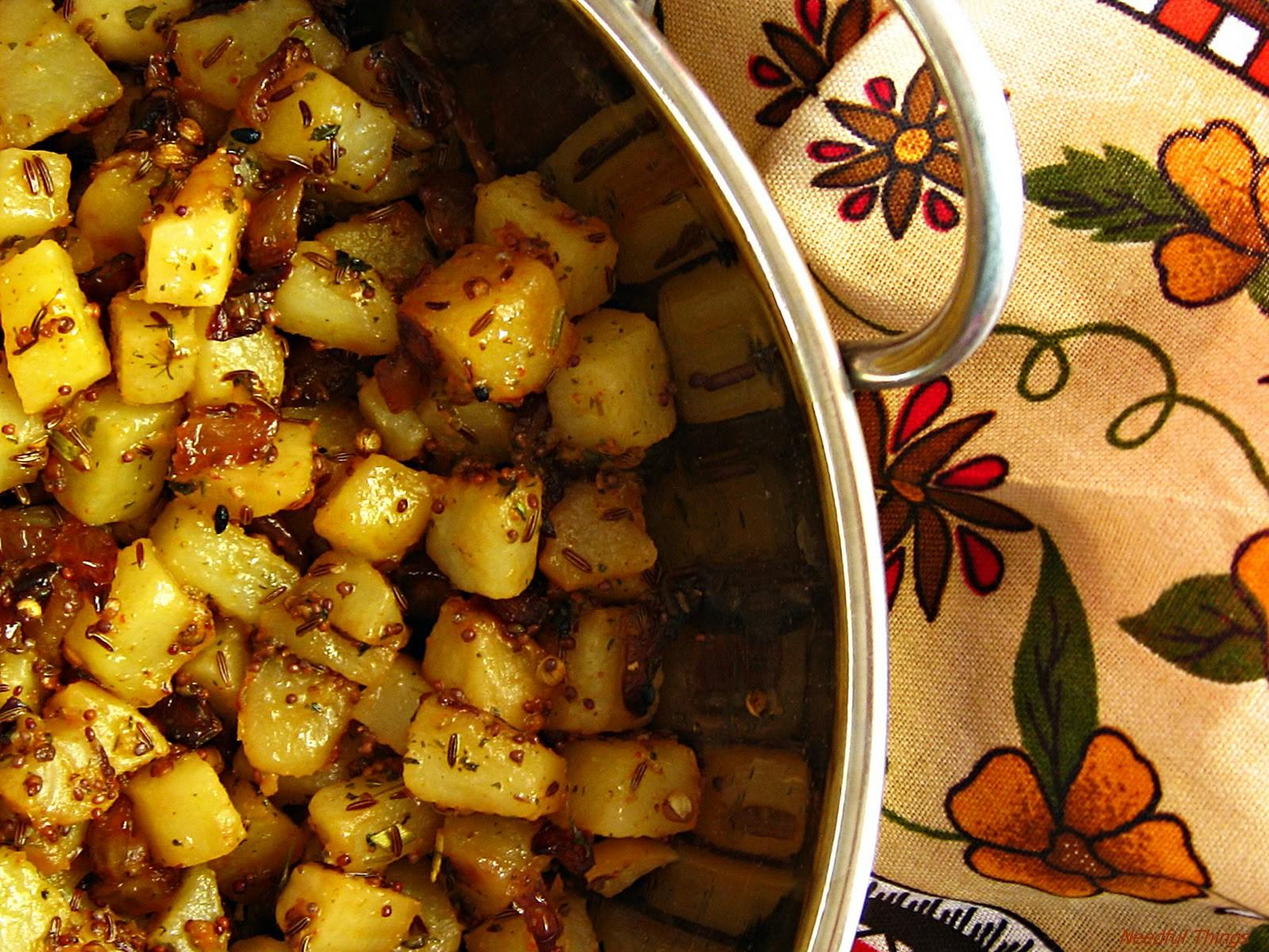AlooMasala: (4, 1, 708, 947)
